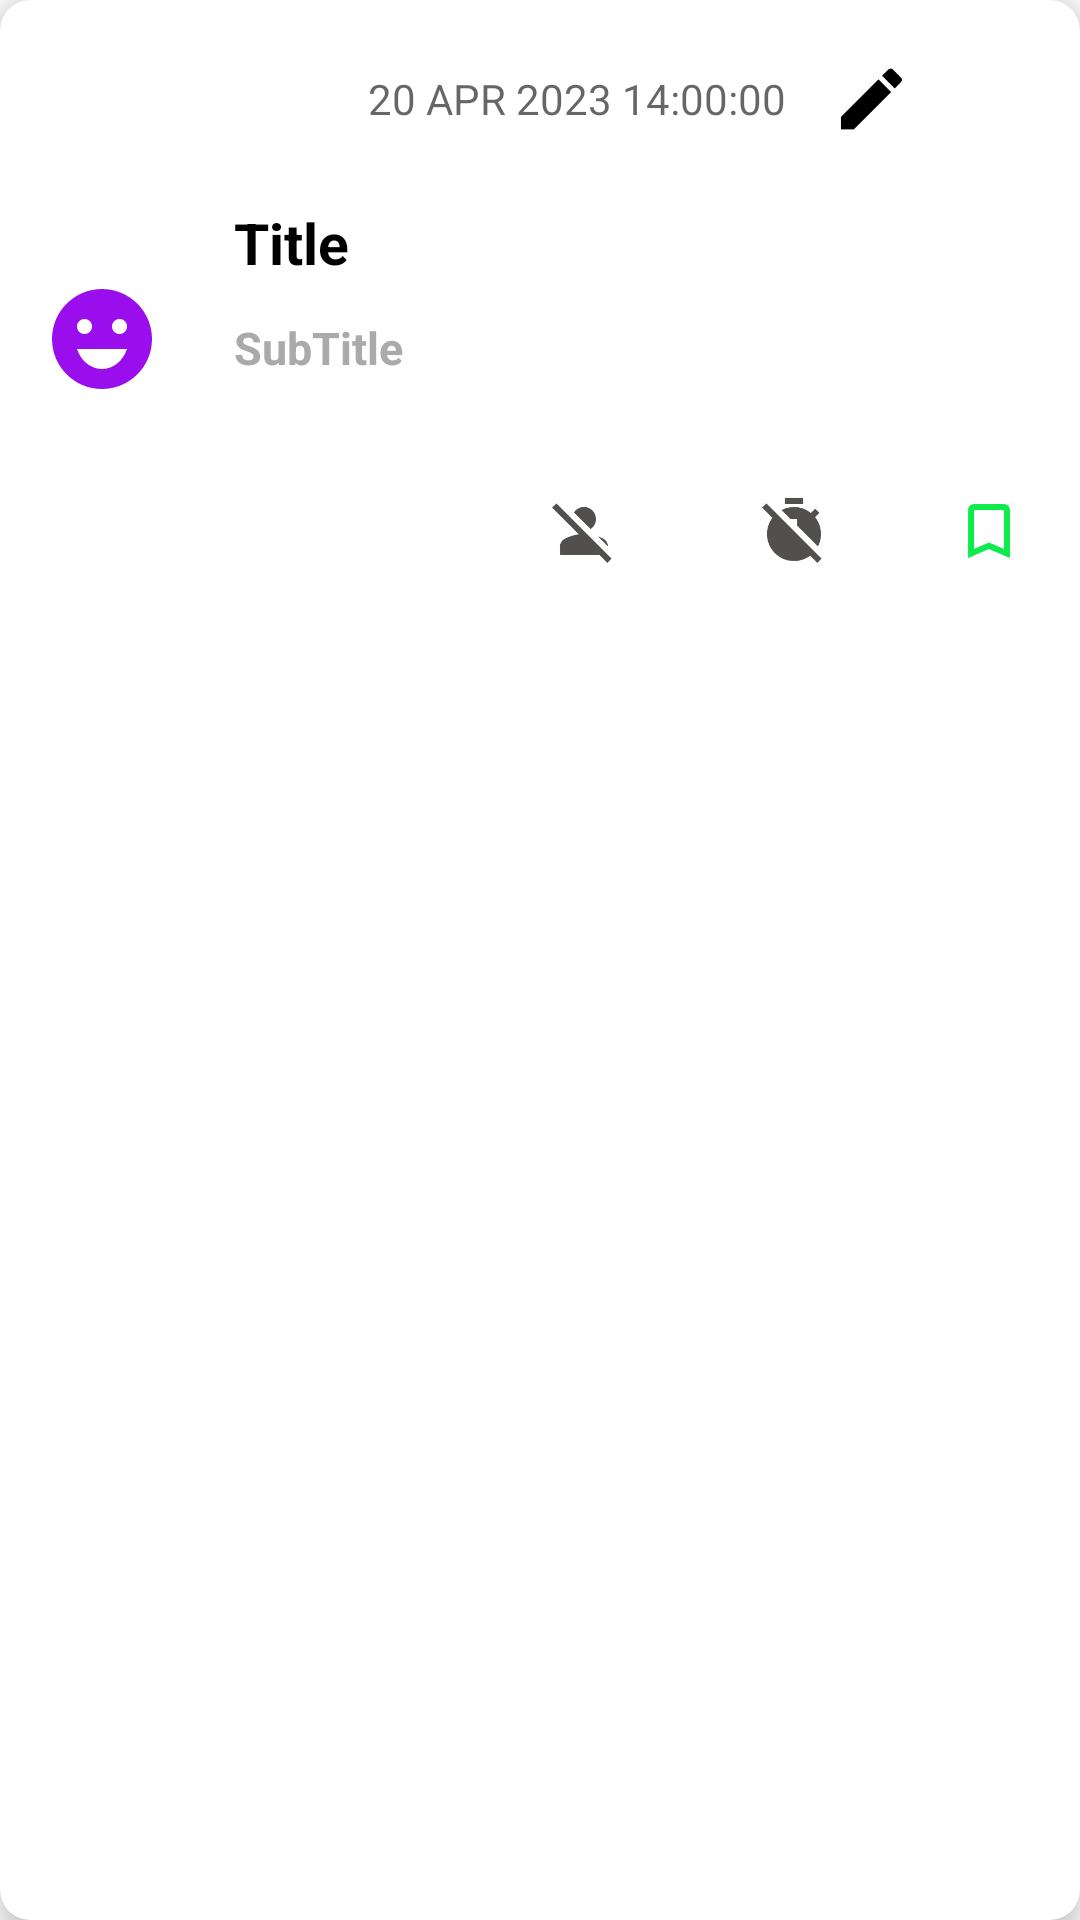

Icon click points for this 1080×1920 phone screenshot, format point (x, y):
Absent: point (582, 533)
Edit: point (871, 99)
Late: point (792, 530)
